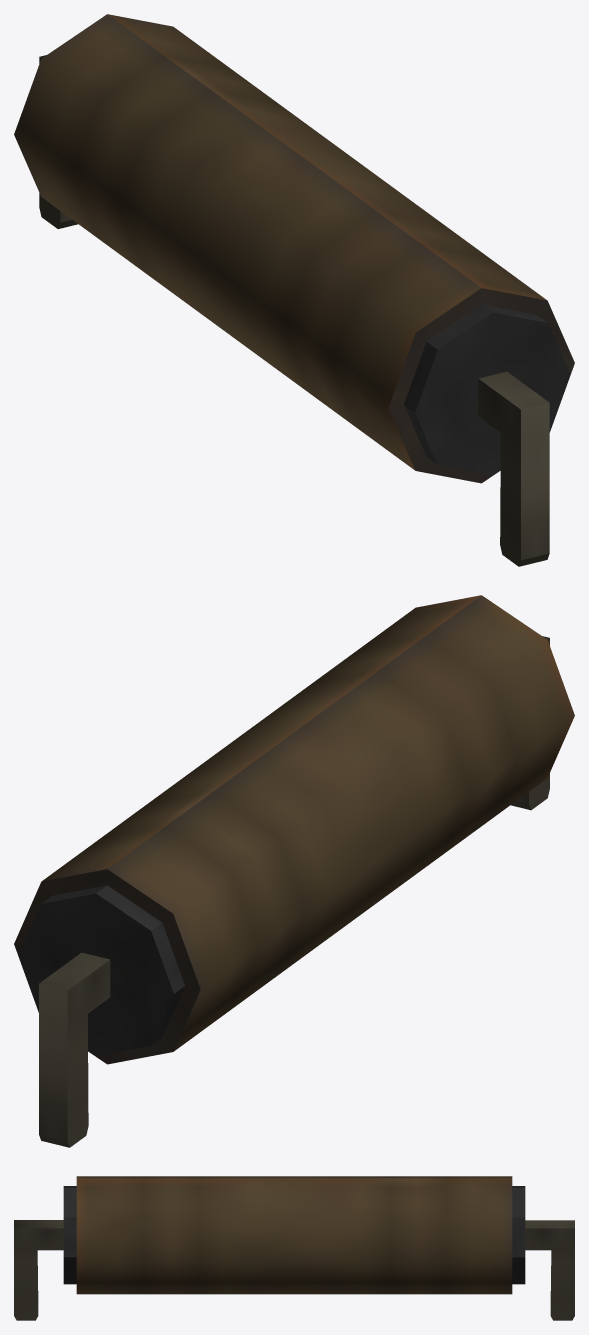
The model's file is capacitor_etx_5_1.obj.
3 renders of one model, top to bottom at view 1: azimuth 30°, elevation 25°; view 2: azimuth 150°, elevation 25°; view 3: azimuth 270°, elevation 25°, orthographic. The views are drawn at different scales.
Visible parts, largest first — view 1: capacitor_etx_5_1; view 2: capacitor_etx_5_1; view 3: capacitor_etx_5_1.
Part boxes in pixels (bbox=[...]): capacitor_etx_5_1: bbox=[14, 14, 574, 566]; capacitor_etx_5_1: bbox=[14, 595, 574, 1147]; capacitor_etx_5_1: bbox=[14, 1176, 574, 1320].
Size of the model in its own units: 0.0432 by 0.0525 by 0.1932.
